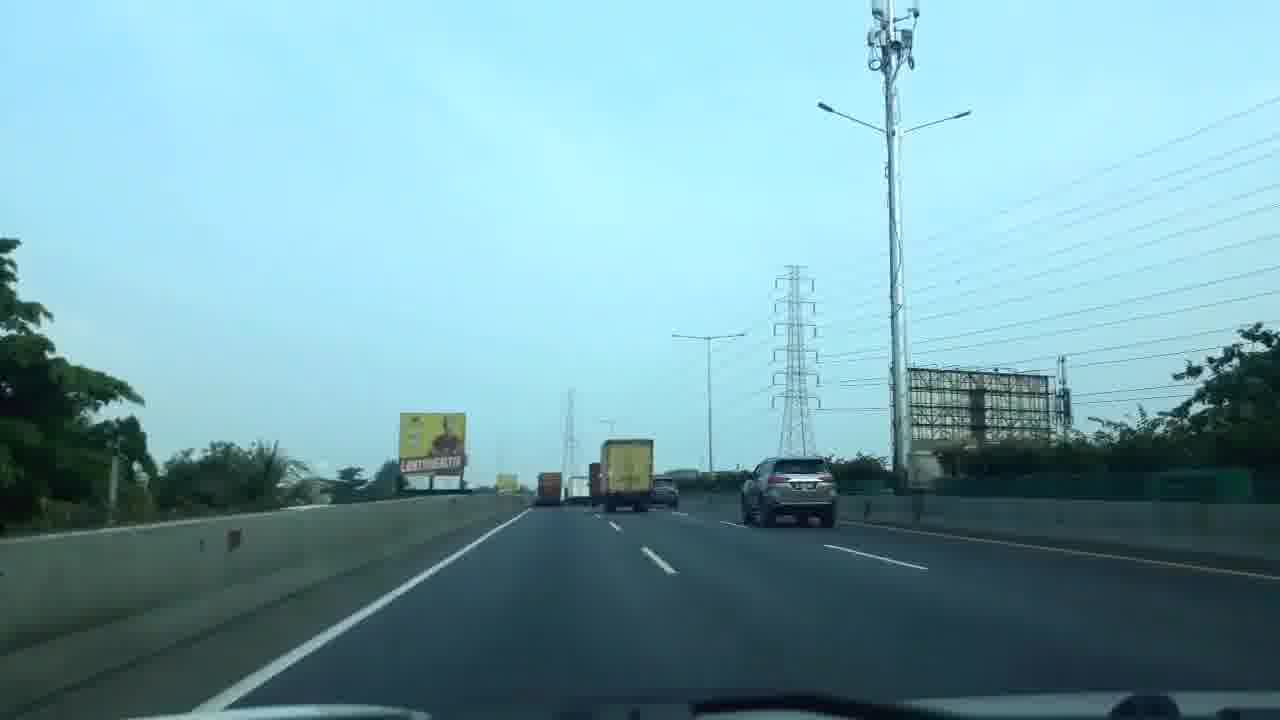plate_positive: (794, 482, 815, 489)
